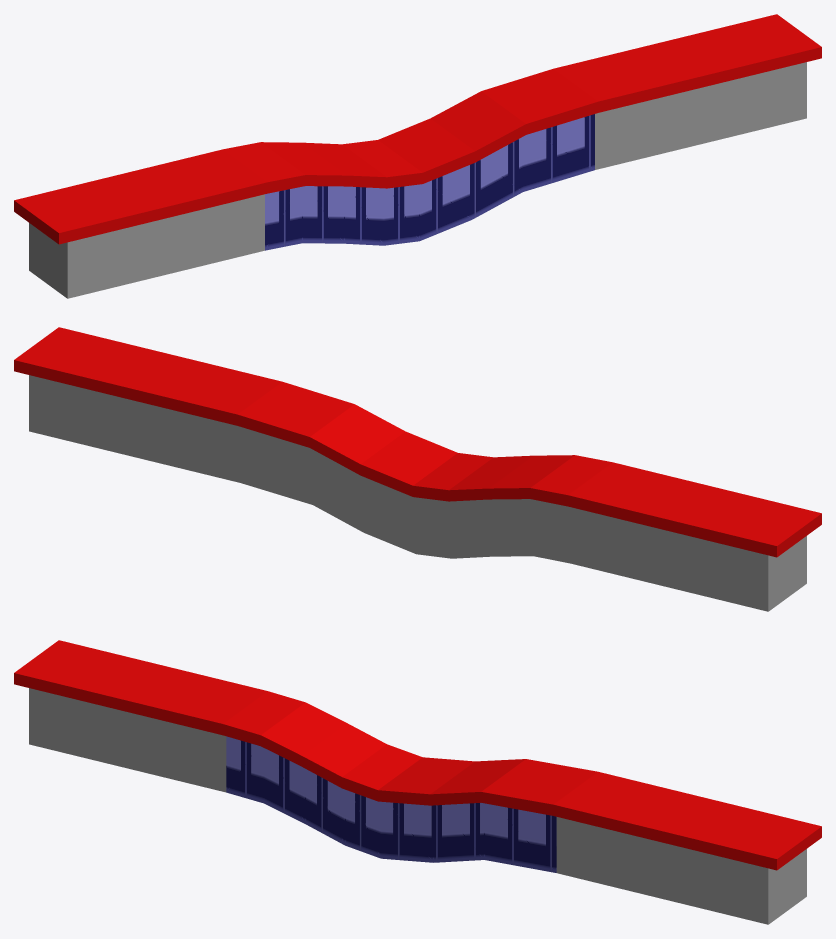
Rendered from Hardcore_Parkour_Platform1.fbx.
3 views of the same model, one above another, from view 1: azimuth 30°, elevation 25°; view 2: azimuth 150°, elevation 25°; view 3: azimuth 330°, elevation 25° (orthographic).
Parts seen in each view (by area): view 1: polySurface4; view 2: polySurface4; view 3: polySurface4.
Boxes of the visible parts, x1,y1,x2,y2 form: polySurface4: (14,14,821,298); polySurface4: (14,327,821,611); polySurface4: (14,640,821,924).
Bounding box in the file's own units: 3104 × 386 × 317.
